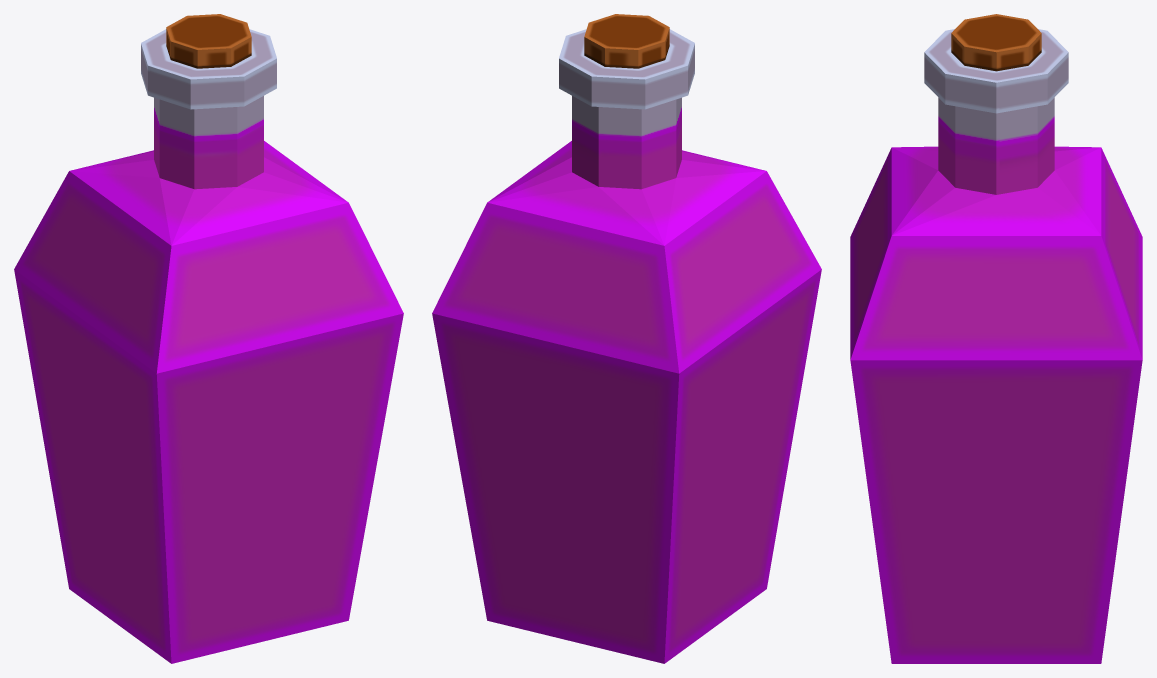
File: HealOverTimePot.fbx
3 views of the same model, side by side, from view 1: azimuth 30°, elevation 25°; view 2: azimuth 150°, elevation 25°; view 3: azimuth 270°, elevation 25° (orthographic). The views are drawn at different scales.
Parts seen in each view (by area): view 1: Healing Over Time Potion; view 2: Healing Over Time Potion; view 3: Healing Over Time Potion.
Part boxes in pixels (x1=…): Healing Over Time Potion: x1=14, y1=14, x2=403, y2=663; Healing Over Time Potion: x1=432, y1=14, x2=821, y2=663; Healing Over Time Potion: x1=850, y1=14, x2=1142, y2=663.
Bounding box in the file's own units: 0.0811 × 0.0811 × 0.1797.
